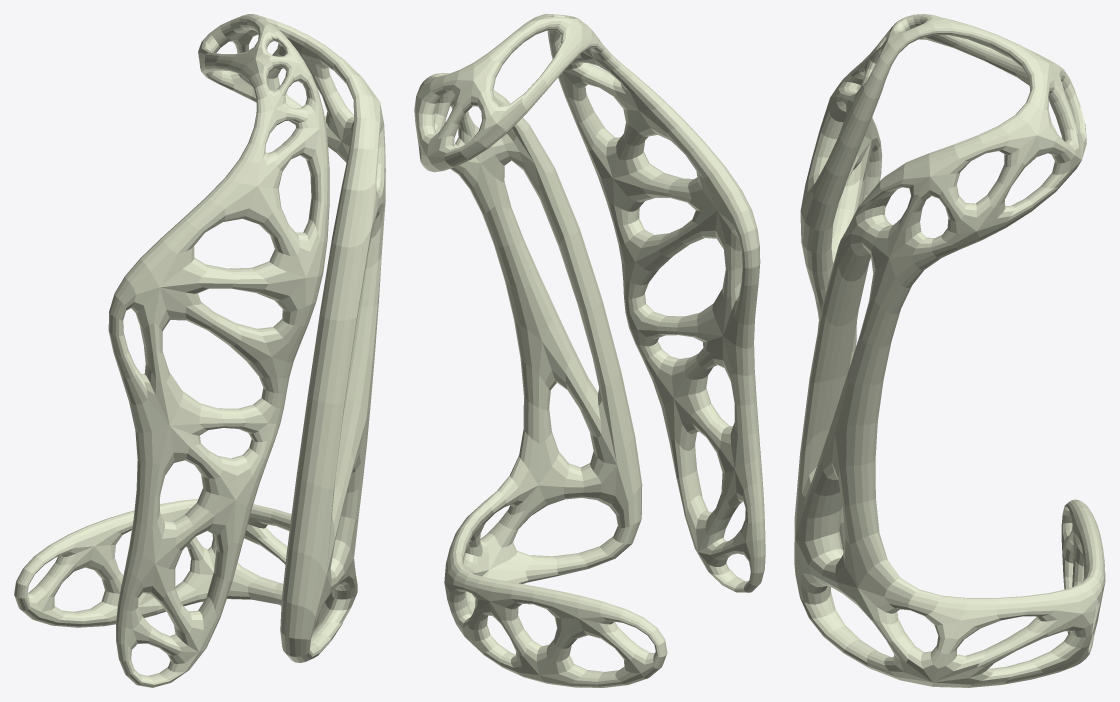
Rendered from cuprawearable.glb.
3 views of the same model, side by side, from view 1: azimuth 30°, elevation 25°; view 2: azimuth 150°, elevation 25°; view 3: azimuth 270°, elevation 25° (orthographic). The views are drawn at different scales.
Parts seen in each view (by area): view 1: Wearable; view 2: Wearable; view 3: Wearable.
Part boxes in pixels (box(x1,y1,x2,y2)): Wearable: box(14, 14, 385, 687); Wearable: box(414, 14, 765, 687); Wearable: box(794, 14, 1105, 687).
Size of the model in its own units: 0.0733 by 0.1442 by 0.0615.
